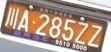A: (18, 10, 28, 32)
